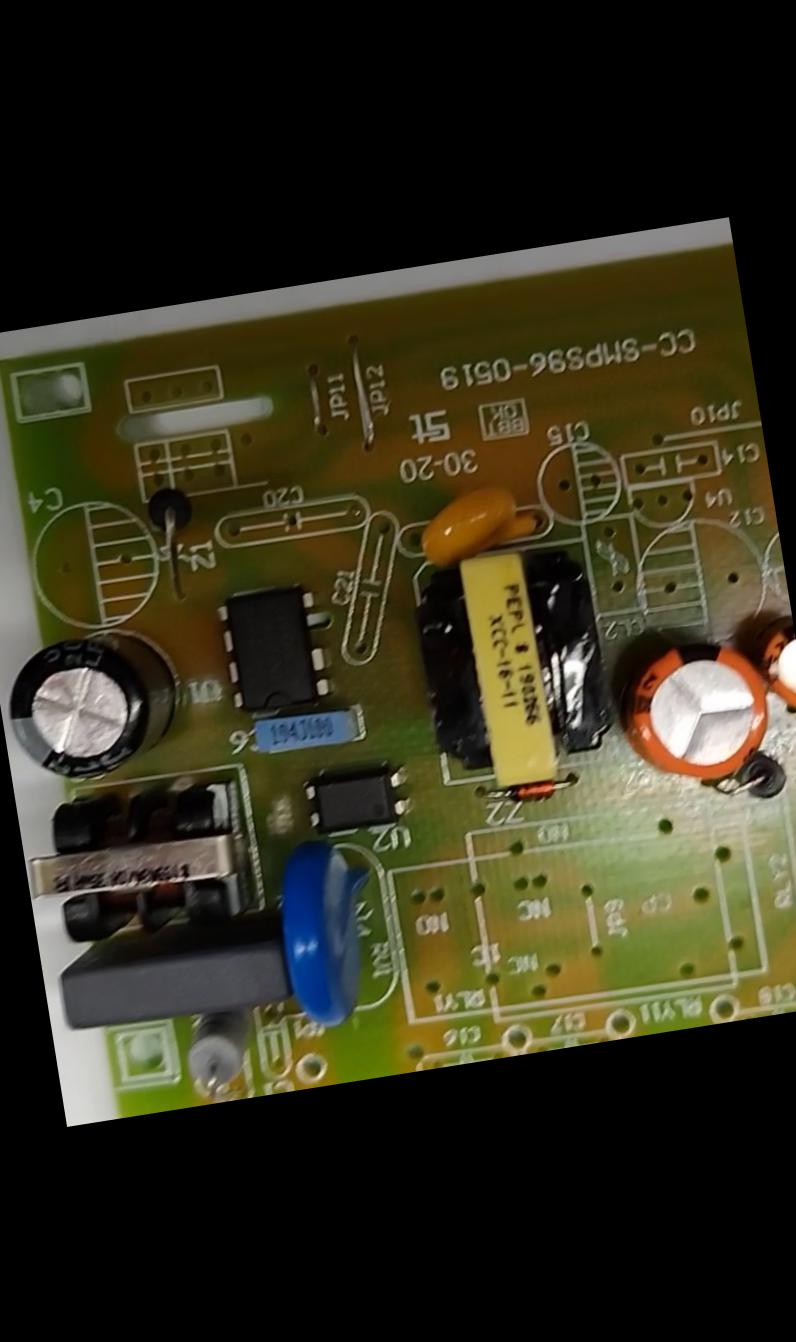Cap1: (617, 630, 780, 790)
Cap2: (755, 625, 795, 713)
Cap3: (0, 618, 197, 788)
MOSFET: (215, 584, 336, 712)
Mov: (269, 840, 391, 1030)
Resistor: (182, 1006, 270, 1097)
Transformer: (418, 533, 623, 794), (18, 779, 256, 954)
